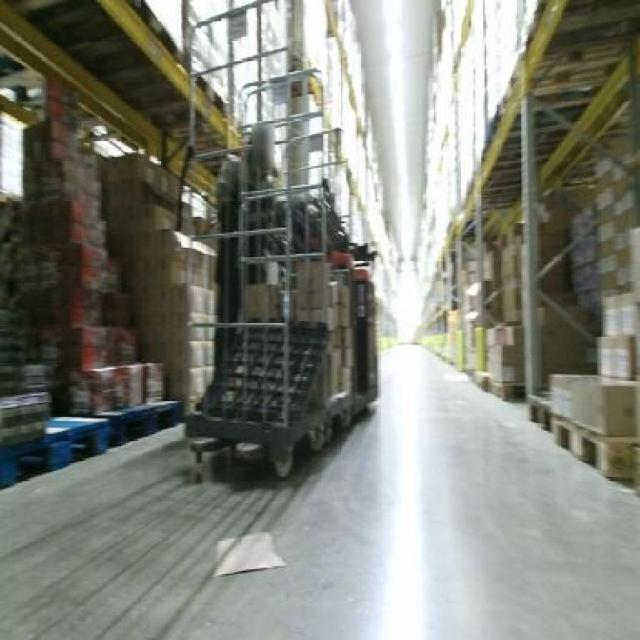floor: (0, 343, 637, 637), (211, 528, 285, 575)
